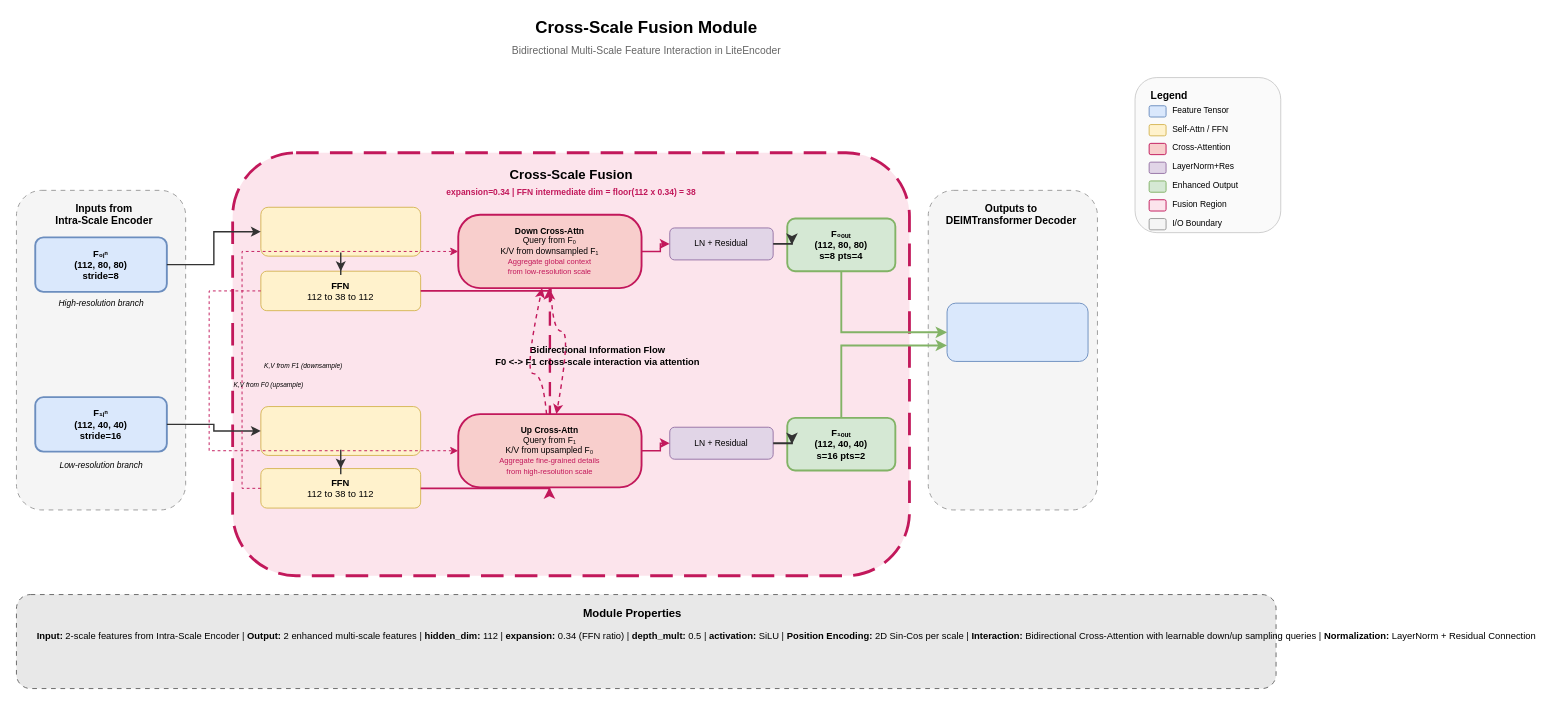
Image size: 1553x705. Some labels were removed from this diagram. Each missing label, with the centre of its shape:
Multi-scale features for Cross-Attention in each Decoder Layer (L=3): point (1017, 331)
Self-Attention Scale-wise encoding within F₀: point (340, 231)
Self-Attention Scale-wise encoding within F₁: point (340, 430)
